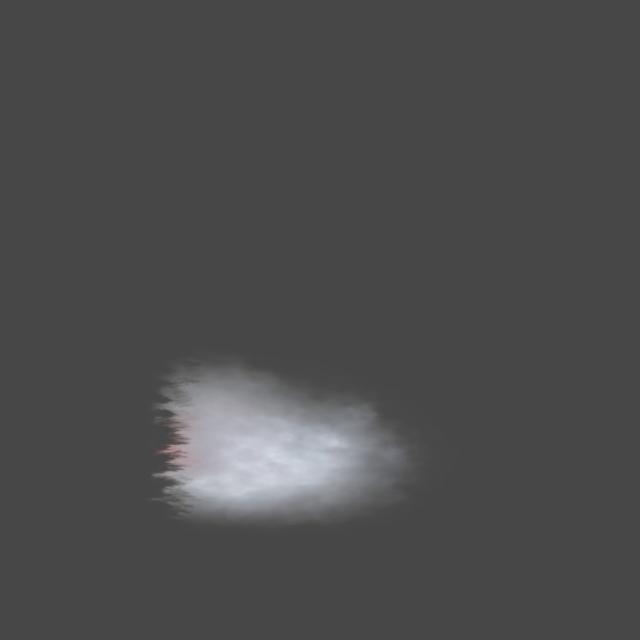smoke: (159, 362, 414, 524)
